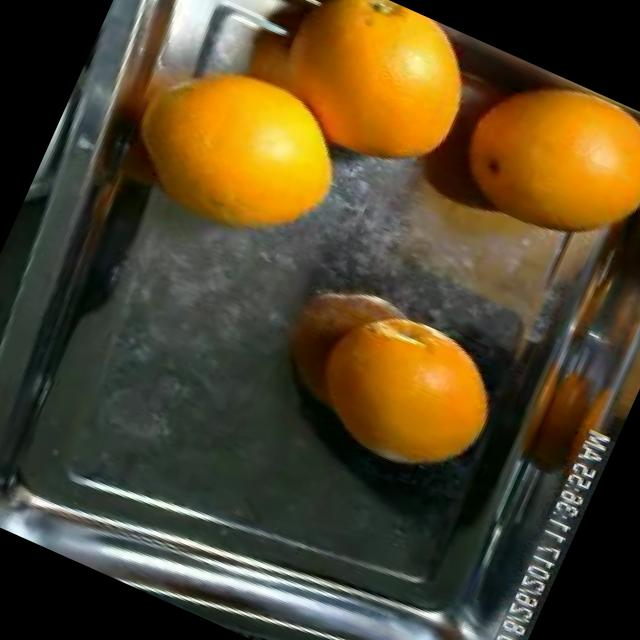Fruit: (276, 282, 532, 514), (402, 15, 568, 126)
